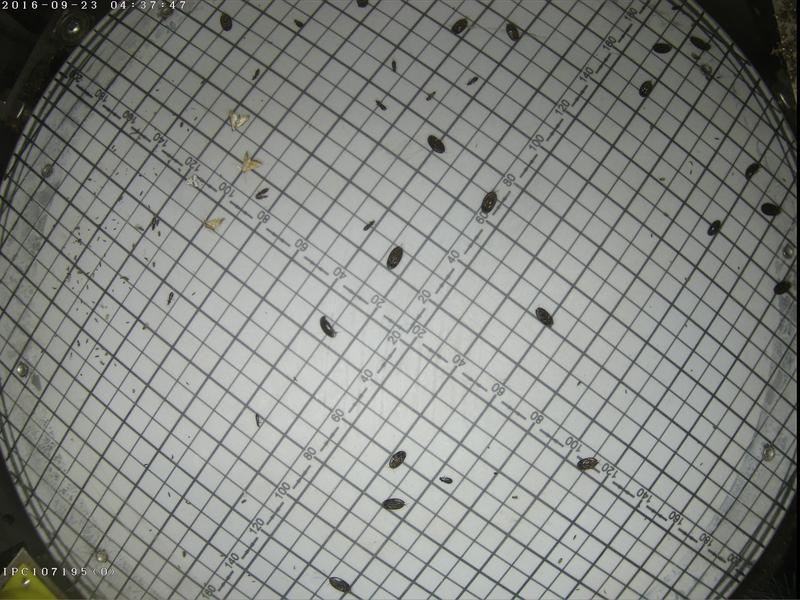Rice Leaf Roller: (240, 150, 262, 171), (227, 106, 246, 130), (200, 214, 225, 231)
